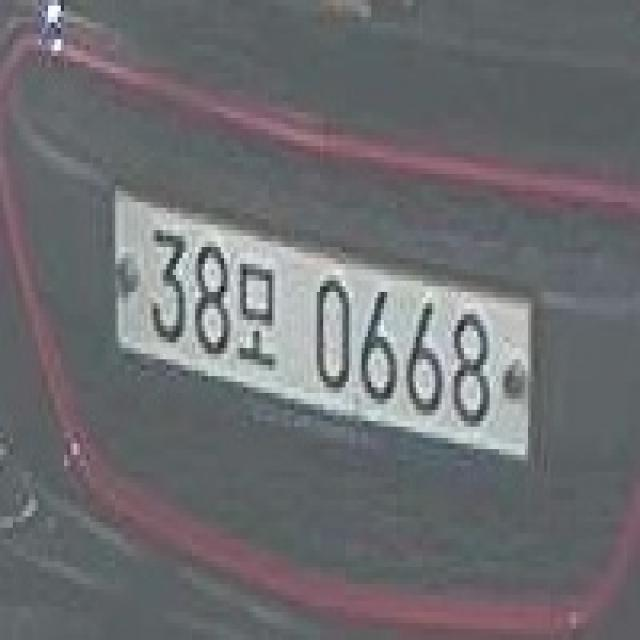0: (314, 269, 348, 393)
3: (150, 219, 189, 354)
6: (355, 286, 400, 416), (403, 298, 445, 427)
8: (448, 308, 493, 426), (192, 242, 230, 360)
license_plate: (109, 180, 534, 466)
mo: (230, 252, 278, 370)
